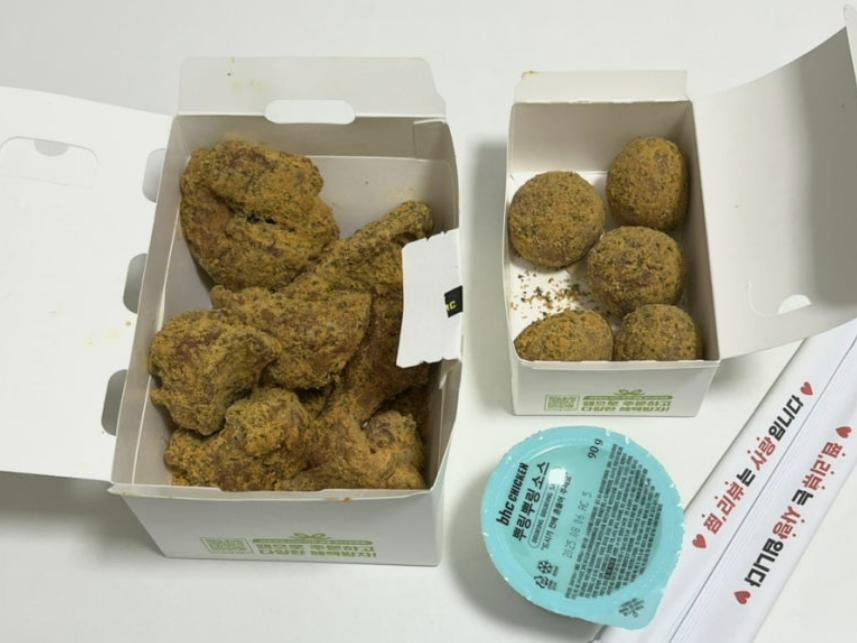Lunch Box: (0, 57, 463, 564), (503, 7, 856, 415)
cup: (481, 426, 682, 628)
